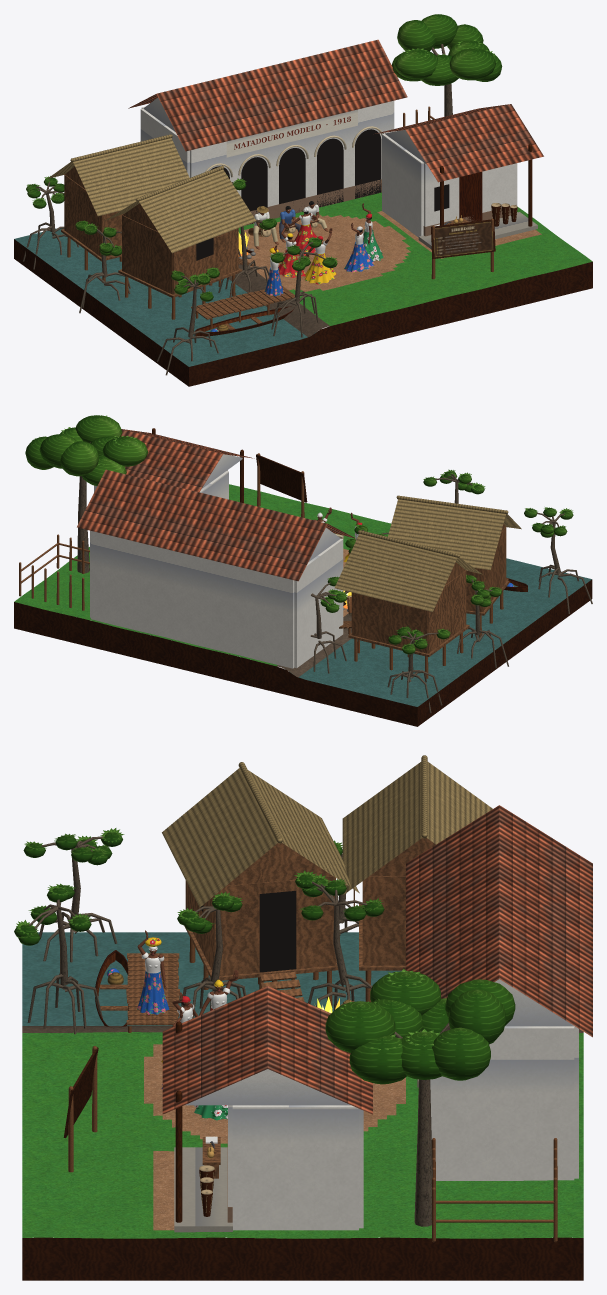
File: origem.glb
3 views of the same model, one above another, from view 1: azimuth 30°, elevation 25°; view 2: azimuth 150°, elevation 25°; view 3: azimuth 270°, elevation 25° (orthographic). The views are drawn at different scales.
Visible parts, largest first — view 1: Terreno_Rio_Anil, Matadouro_Modelo_1918, Casa_de_Mina, Palafita_2, Palafita_1, Mangue, Arvore, Placa_linha_do_tempo, Passarelas_e_trapiche, Canoa, Coreira_2, Coreira_3 (+4 smaller); view 2: Matadouro_Modelo_1918, Terreno_Rio_Anil, Palafita_1, Palafita_2, Mangue, Arvore, Casa_de_Mina, Placa_linha_do_tempo; view 3: Terreno_Rio_Anil, Matadouro_Modelo_1918, Casa_de_Mina, Palafita_2, Arvore, Palafita_1, Mangue, Passarelas_e_trapiche, Placa_linha_do_tempo, Migrante_com_trouxa, Canoa.
Part boxes in pixels (bbox=[...]): Terreno_Rio_Anil: bbox=[14, 192, 592, 386]; Matadouro_Modelo_1918: bbox=[128, 39, 434, 225]; Casa_de_Mina: bbox=[373, 104, 543, 249]; Palafita_2: bbox=[105, 165, 256, 319]; Palafita_1: bbox=[47, 134, 189, 281]; Mangue: bbox=[23, 175, 337, 375]; Arvore: bbox=[391, 14, 502, 116]; Placa_linha_do_tempo: bbox=[431, 218, 495, 279]; Passarelas_e_trapiche: bbox=[191, 258, 294, 329]; Canoa: bbox=[195, 306, 294, 336]; Coreira_2: bbox=[304, 228, 336, 284]; Coreira_3: bbox=[344, 223, 374, 272]; Matadouro_Modelo_1918: bbox=[19, 469, 355, 668]; Terreno_Rio_Anil: bbox=[14, 484, 592, 726]; Palafita_1: bbox=[334, 530, 482, 678]; Palafita_2: bbox=[388, 495, 521, 637]; Mangue: bbox=[310, 469, 592, 713]; Arvore: bbox=[25, 415, 148, 573]; Casa_de_Mina: bbox=[94, 428, 254, 502]; Placa_linha_do_tempo: bbox=[256, 453, 307, 517]; Terreno_Rio_Anil: bbox=[22, 932, 583, 1280]; Matadouro_Modelo_1918: bbox=[406, 805, 592, 1242]; Casa_de_Mina: bbox=[162, 986, 372, 1232]; Palafita_2: bbox=[162, 762, 359, 1006]; Arvore: bbox=[325, 969, 515, 1226]; Palafita_1: bbox=[342, 755, 492, 1002]; Mangue: bbox=[14, 828, 384, 1034]; Passarelas_e_trapiche: bbox=[126, 953, 304, 1032]; Placa_linha_do_tempo: bbox=[63, 1046, 98, 1172]; Migrante_com_trouxa: bbox=[137, 930, 169, 1015]; Canoa: bbox=[95, 950, 127, 1027].
Bounding box in the file's own units: 1 × 0.3717 × 0.7075.
60 materials, 53 textured.
